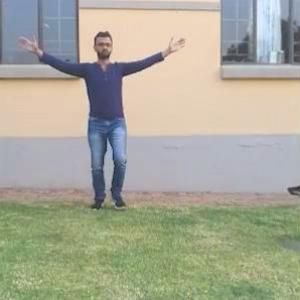takeoff: (24, 28, 186, 210)
